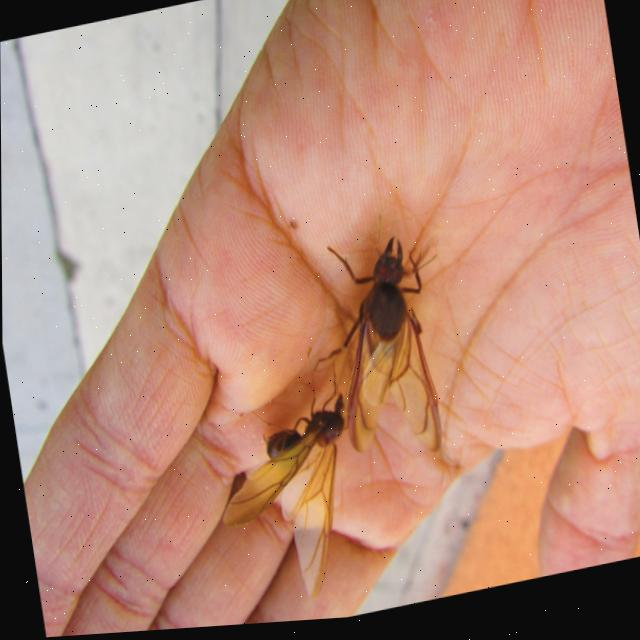Alive-Female-Alate: (289, 206, 466, 482)
Alive-Male-Alate: (196, 344, 379, 626)
